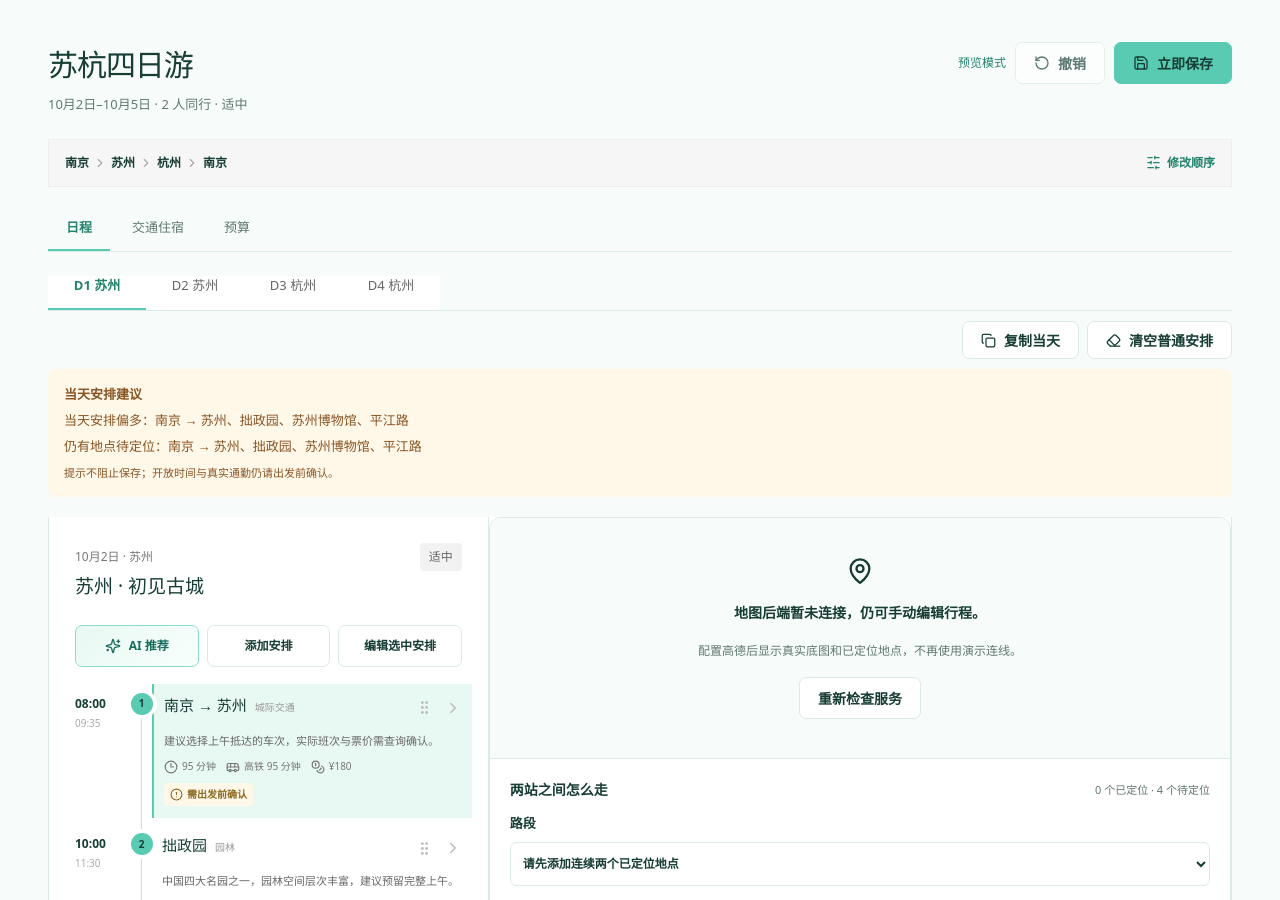
it: 时间轴附近提供编辑入口，不必滚动到地图底部
The image size is (1280, 900).
Click the button "编辑选中安排".
click(400, 646)  # box [338,625,462,667]
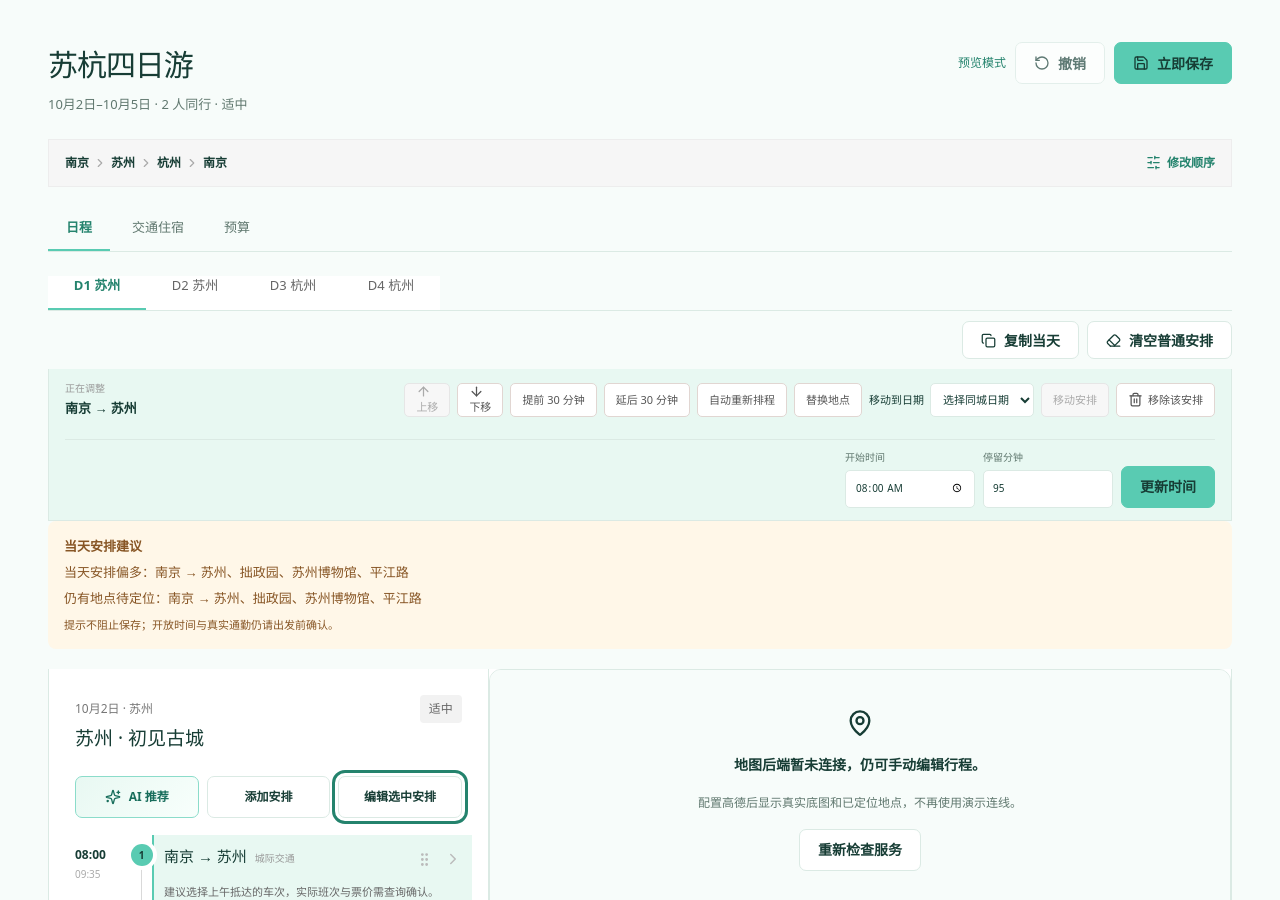
Check: the element named "行程调整" is shown, box [48,369,1232,520]
